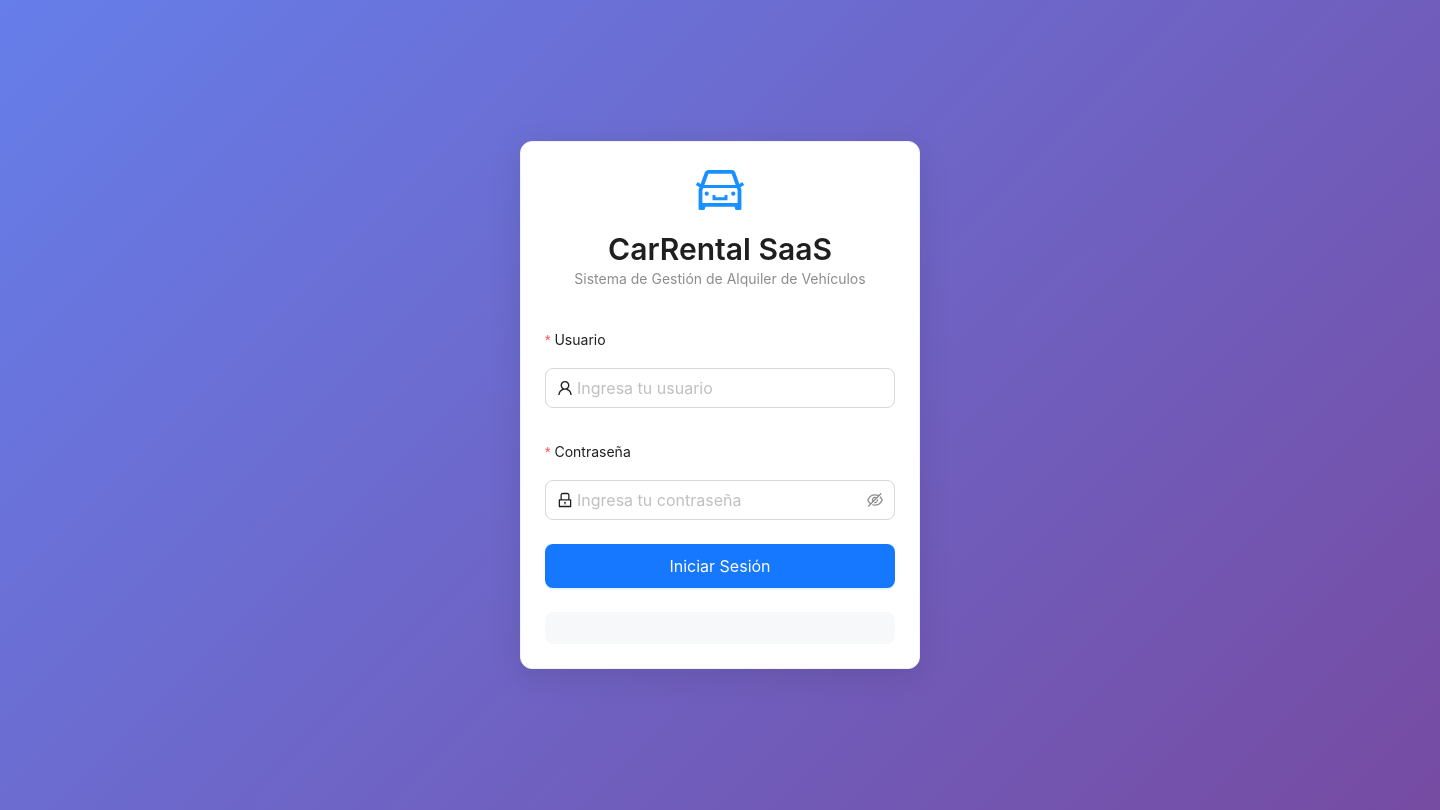
Scenario: LoginPage › shows validation errors for empty fields
Click the button "Iniciar Sesión".
click(720, 566)  # box [545,544,895,588]
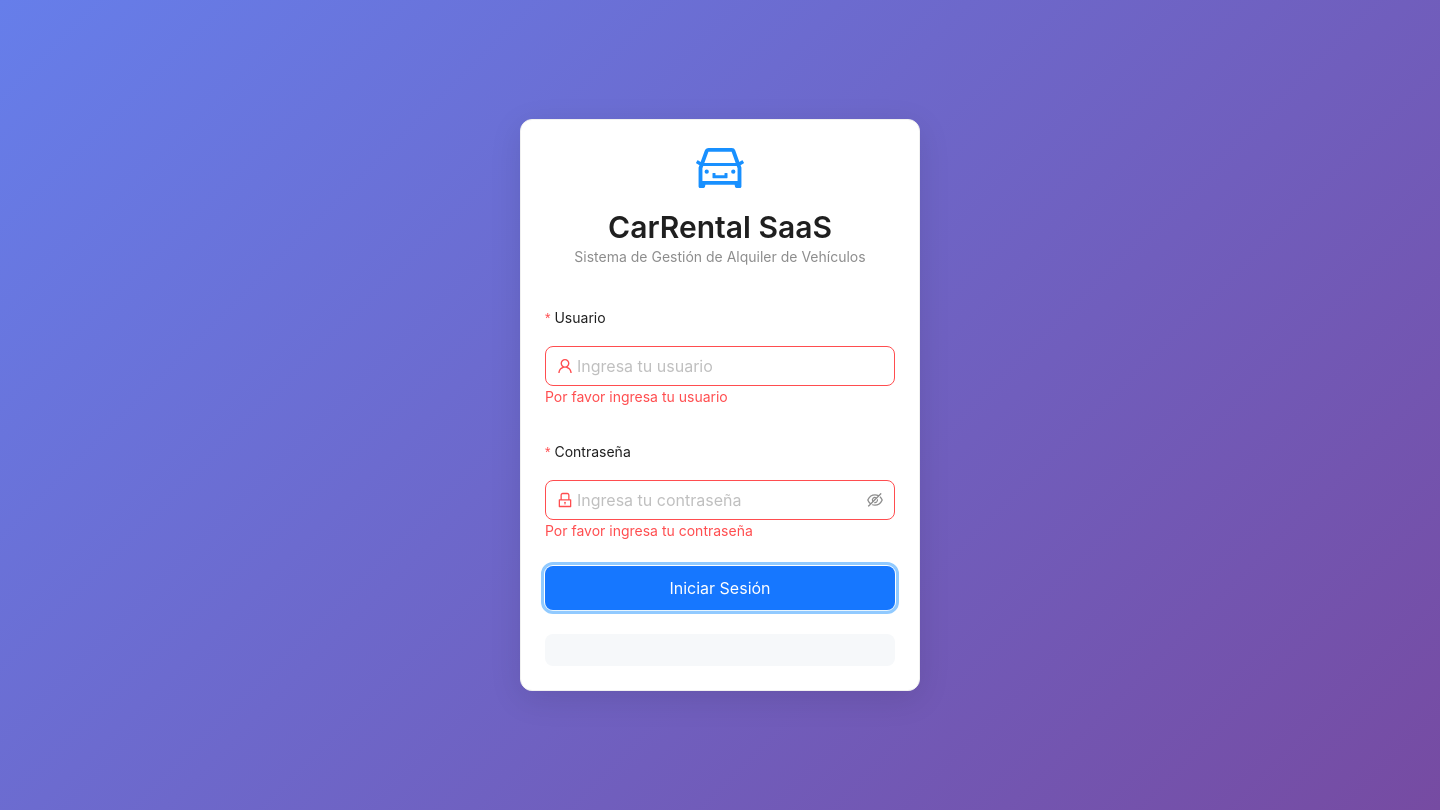
Result: the text "Por favor ingresa tu usuario" is shown at [545,388,728,405]
Result: the text "Por favor ingresa tu contraseña" is shown at [545,522,753,539]
